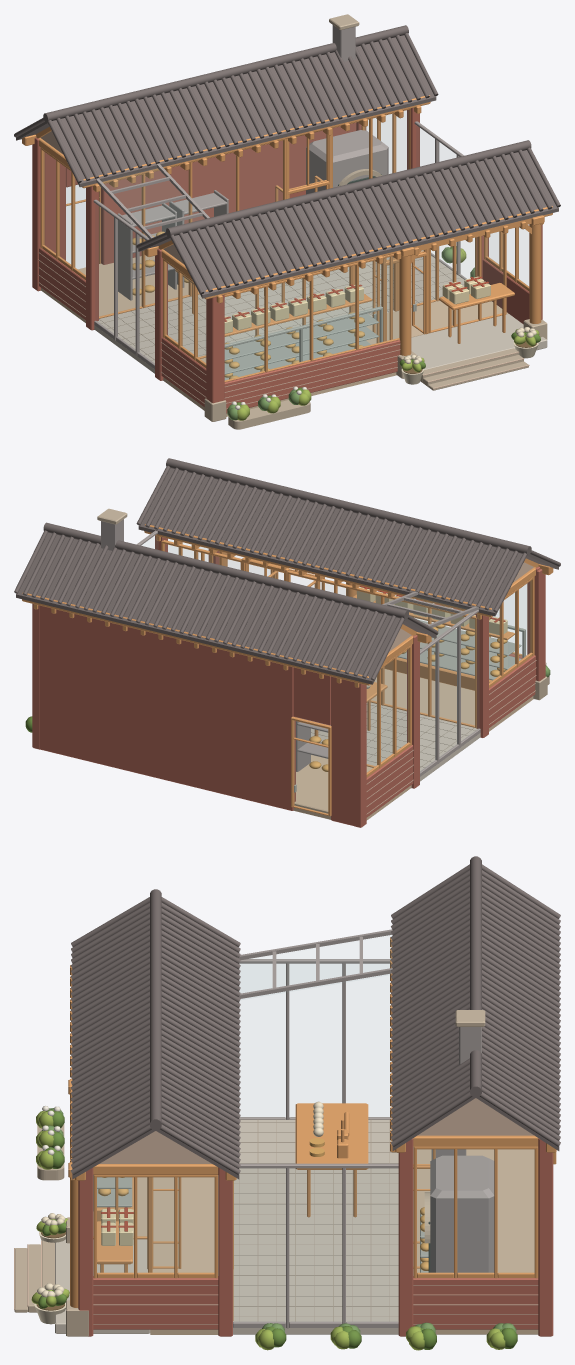
3 renders of one model, top to bottom at view 1: azimuth 30°, elevation 25°; view 2: azimuth 150°, elevation 25°; view 3: azimuth 270°, elevation 25°, orthographic. The views are drawn at different scales.
Parts seen in each view (by area): view 1: R 连续瓦屋面, R 筒瓦, A 后墙右段, S 中央操作天井铺地, R 屋脊, A 红砖山墙角柱, A 前窗下砖墙, A 侧墙窗下, A 侧木窗, I 展柜托盘, S 独立开敞门廊落台, I 右后烤炉实体 (+38 smaller); view 2: A 后墙右段, R 连续瓦屋面, R 筒瓦, R 屋脊, A 红砖山墙角柱, A 侧墙窗下, S 中央操作天井铺地, A 后墙左段, A 侧木窗, R 木檐枋, S 前进零售厅楼面, A 前厅后界玻璃 (+16 smaller); view 3: R 筒瓦, S 中央操作天井铺地, A 侧墙窗下, A 红砖山墙角柱, I 右后烤炉实体, S 前进零售厅楼面, S 后进烘焙厅楼面, A 侧木窗, A 侧连廊玻璃, R 屋脊, I 桌面, A 山墙上段 (+16 smaller).
Part boxes in pixels (x1,y1,x2,y2): R 连续瓦屋面: (16,35,558,298); R 筒瓦: (14,33,560,294); A 后墙右段: (101,122,356,264); S 中央操作天井铺地: (94,250,464,373); R 屋脊: (43,25,531,237); A 红砖山墙角柱: (32,108,542,380); A 前窗下砖墙: (224,340,400,413); A 侧墙窗下: (39,247,529,406); A 侧木窗: (40,113,529,368); I 展柜托盘: (224,313,378,380); S 独立开敞门廊落台: (411,314,547,369); I 右后烤炉实体: (306,130,388,194); A 后墙右段: (40,605,295,810); R 连续瓦屋面: (16,468,558,684); R 筒瓦: (14,465,560,680); R 屋脊: (43,458,531,619); A 红砖山墙角柱: (32,535,540,827); A 侧墙窗下: (366,655,535,817); S 中央操作天井铺地: (311,702,480,781); A 后墙左段: (331,676,353,825); A 侧木窗: (178,542,534,777); R 木檐枋: (22,524,553,685); S 前进零售厅楼面: (371,669,533,731); A 前厅后界玻璃: (161,540,476,728); R 筒瓦: (71,864,560,1174); S 中央操作天井铺地: (233,1119,398,1334); A 侧墙窗下: (93,1276,538,1329); A 红砖山墙角柱: (78,1138,553,1336); I 右后烤炉实体: (430,1155,494,1272); S 前进零售厅楼面: (93,1175,218,1334); S 后进烘焙厅楼面: (413,1147,538,1334); A 侧木窗: (93,1146,538,1278); A 侧连廊玻璃: (233,959,398,1328); R 屋脊: (150,856,481,1130); I 桌面: (97,1103,368,1264); A 山墙上段: (99,1098,533,1163).
Bounding box in the file's own units: 20.69 × 11.91 × 20.34.
